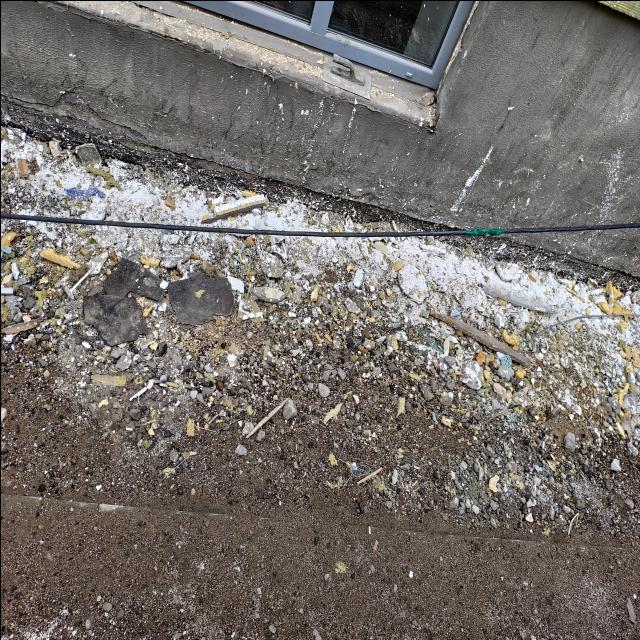lixo domiciliar: (62, 183, 106, 205), (494, 354, 514, 369)
